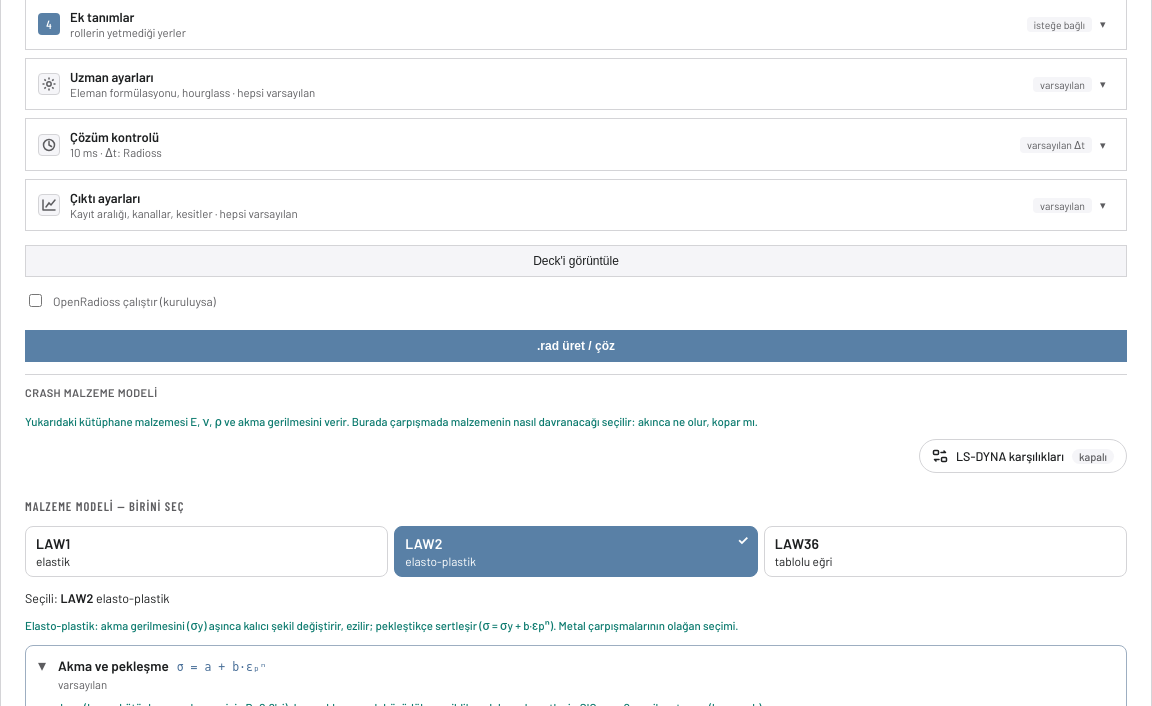
CrashPanel › CFC koşu sonrası post-process: kurulumda yok, sonuçta seçilip uygulanır, süzülmüş tepe gösterilir
The width and height of the screenshot is (1152, 706).
(page scrolled)
Expected: the field labelled "Kuvvet CFC" is not shown
Click the button ".rad üret / çöz".
click(576, 346)  # box [25, 330, 1127, 362]
(page scrolled)
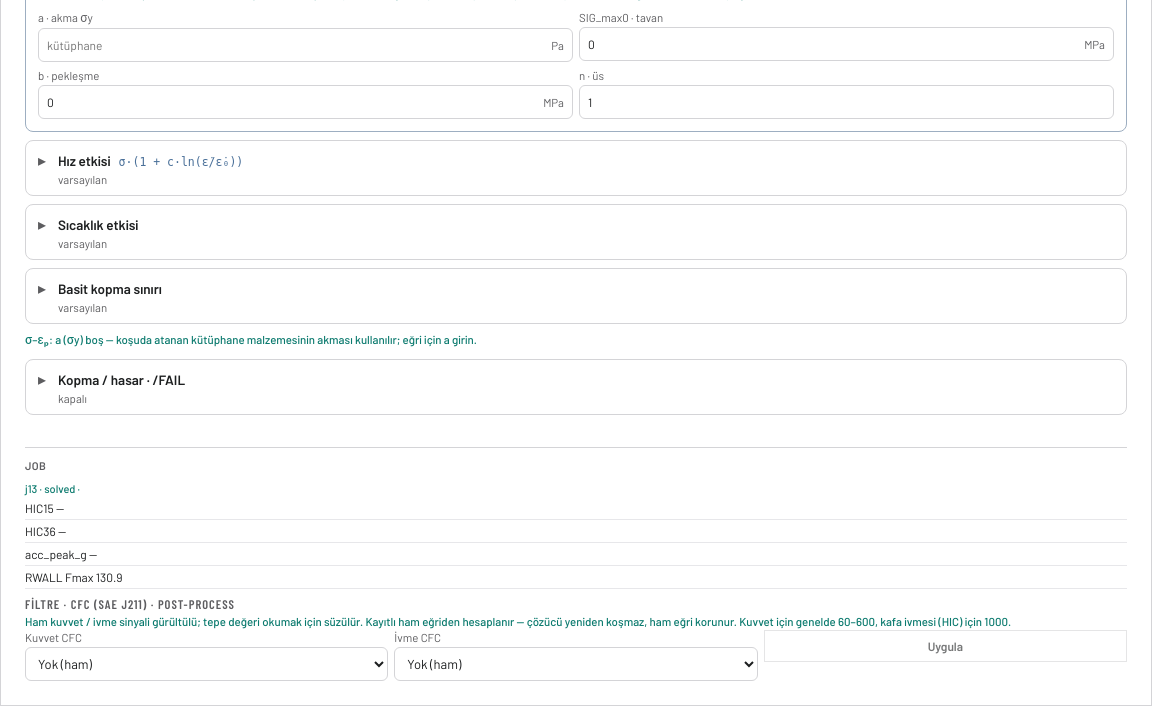
Select "CFC 600" in the dropdown named "Sonuç Kuvvet CFC" at [207, 664], box [25, 647, 388, 681]
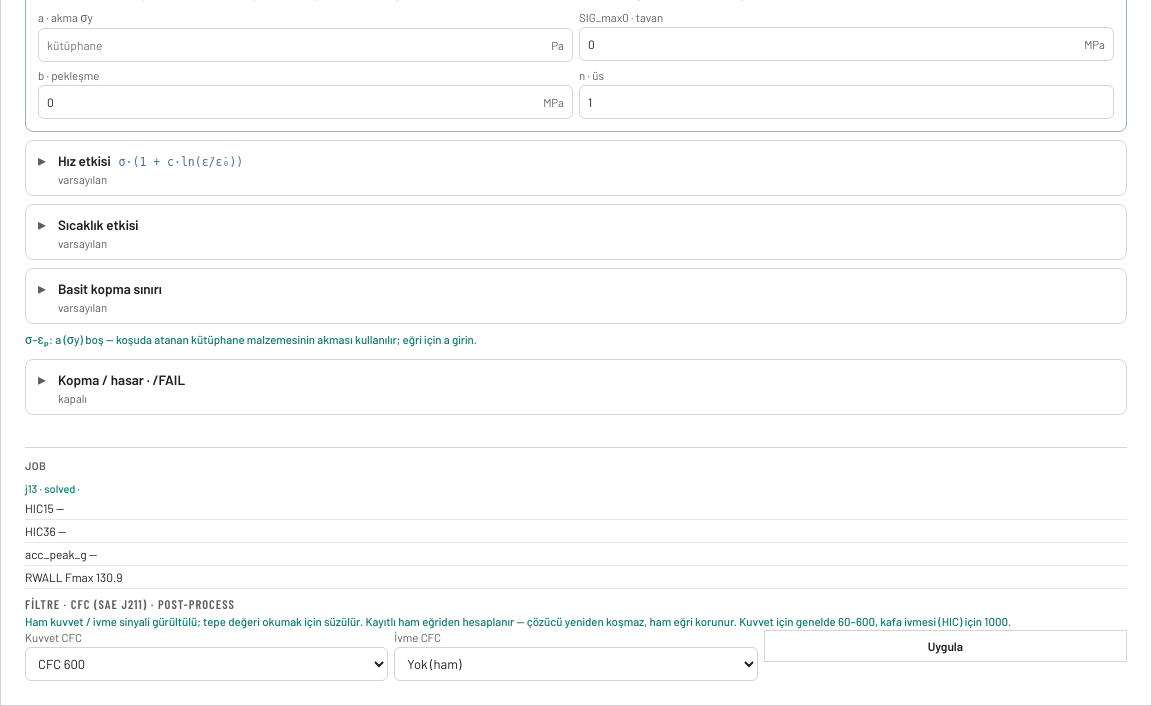
Click the button "Uygula".
click(945, 646)  # box [764, 630, 1127, 662]
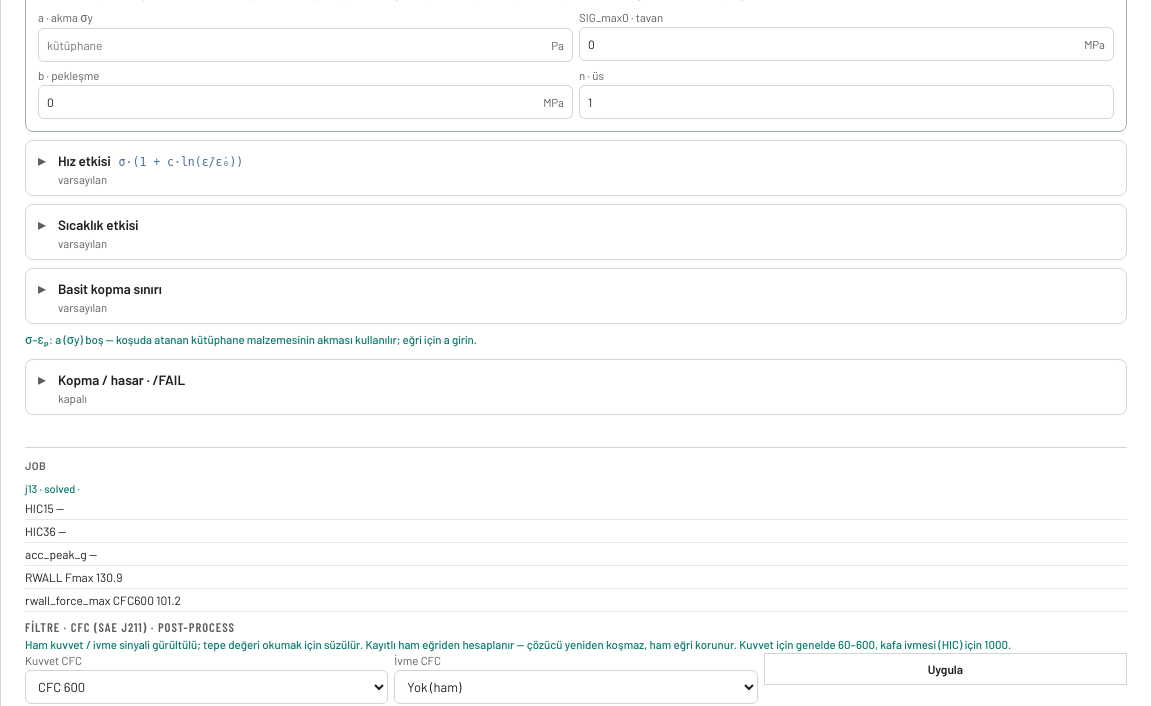
Expected: the elements with test id "crash-cfc-peak" read "rwall_force_max CFC600 101.2", in this order, [25, 589, 1127, 612]
